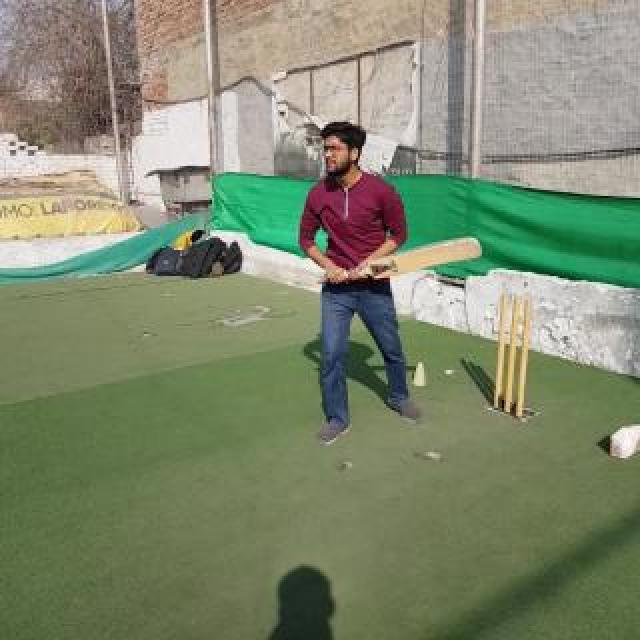bat: (316, 238, 482, 284)
